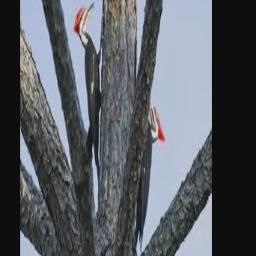Woodpecker: (74, 2, 104, 180), (135, 88, 165, 250)
